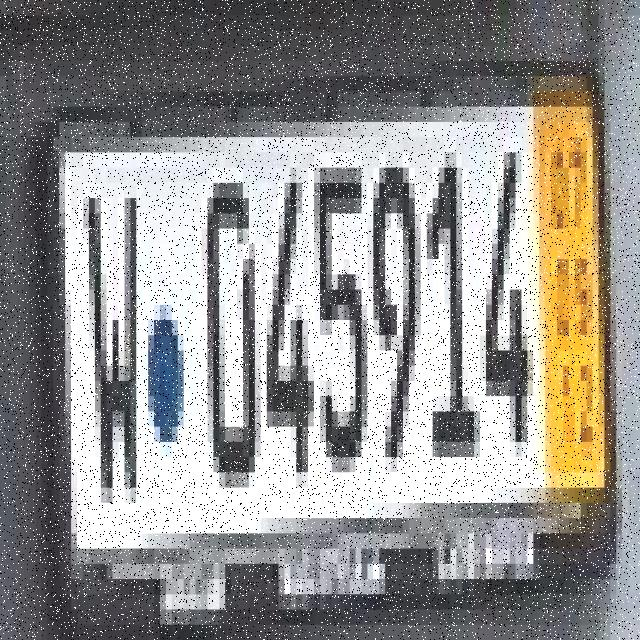licenseplate: (32, 96, 614, 559)
